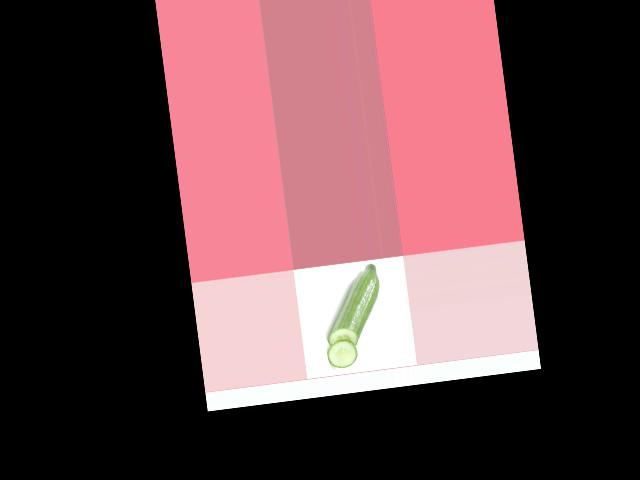cucumber: (318, 263, 386, 350)
